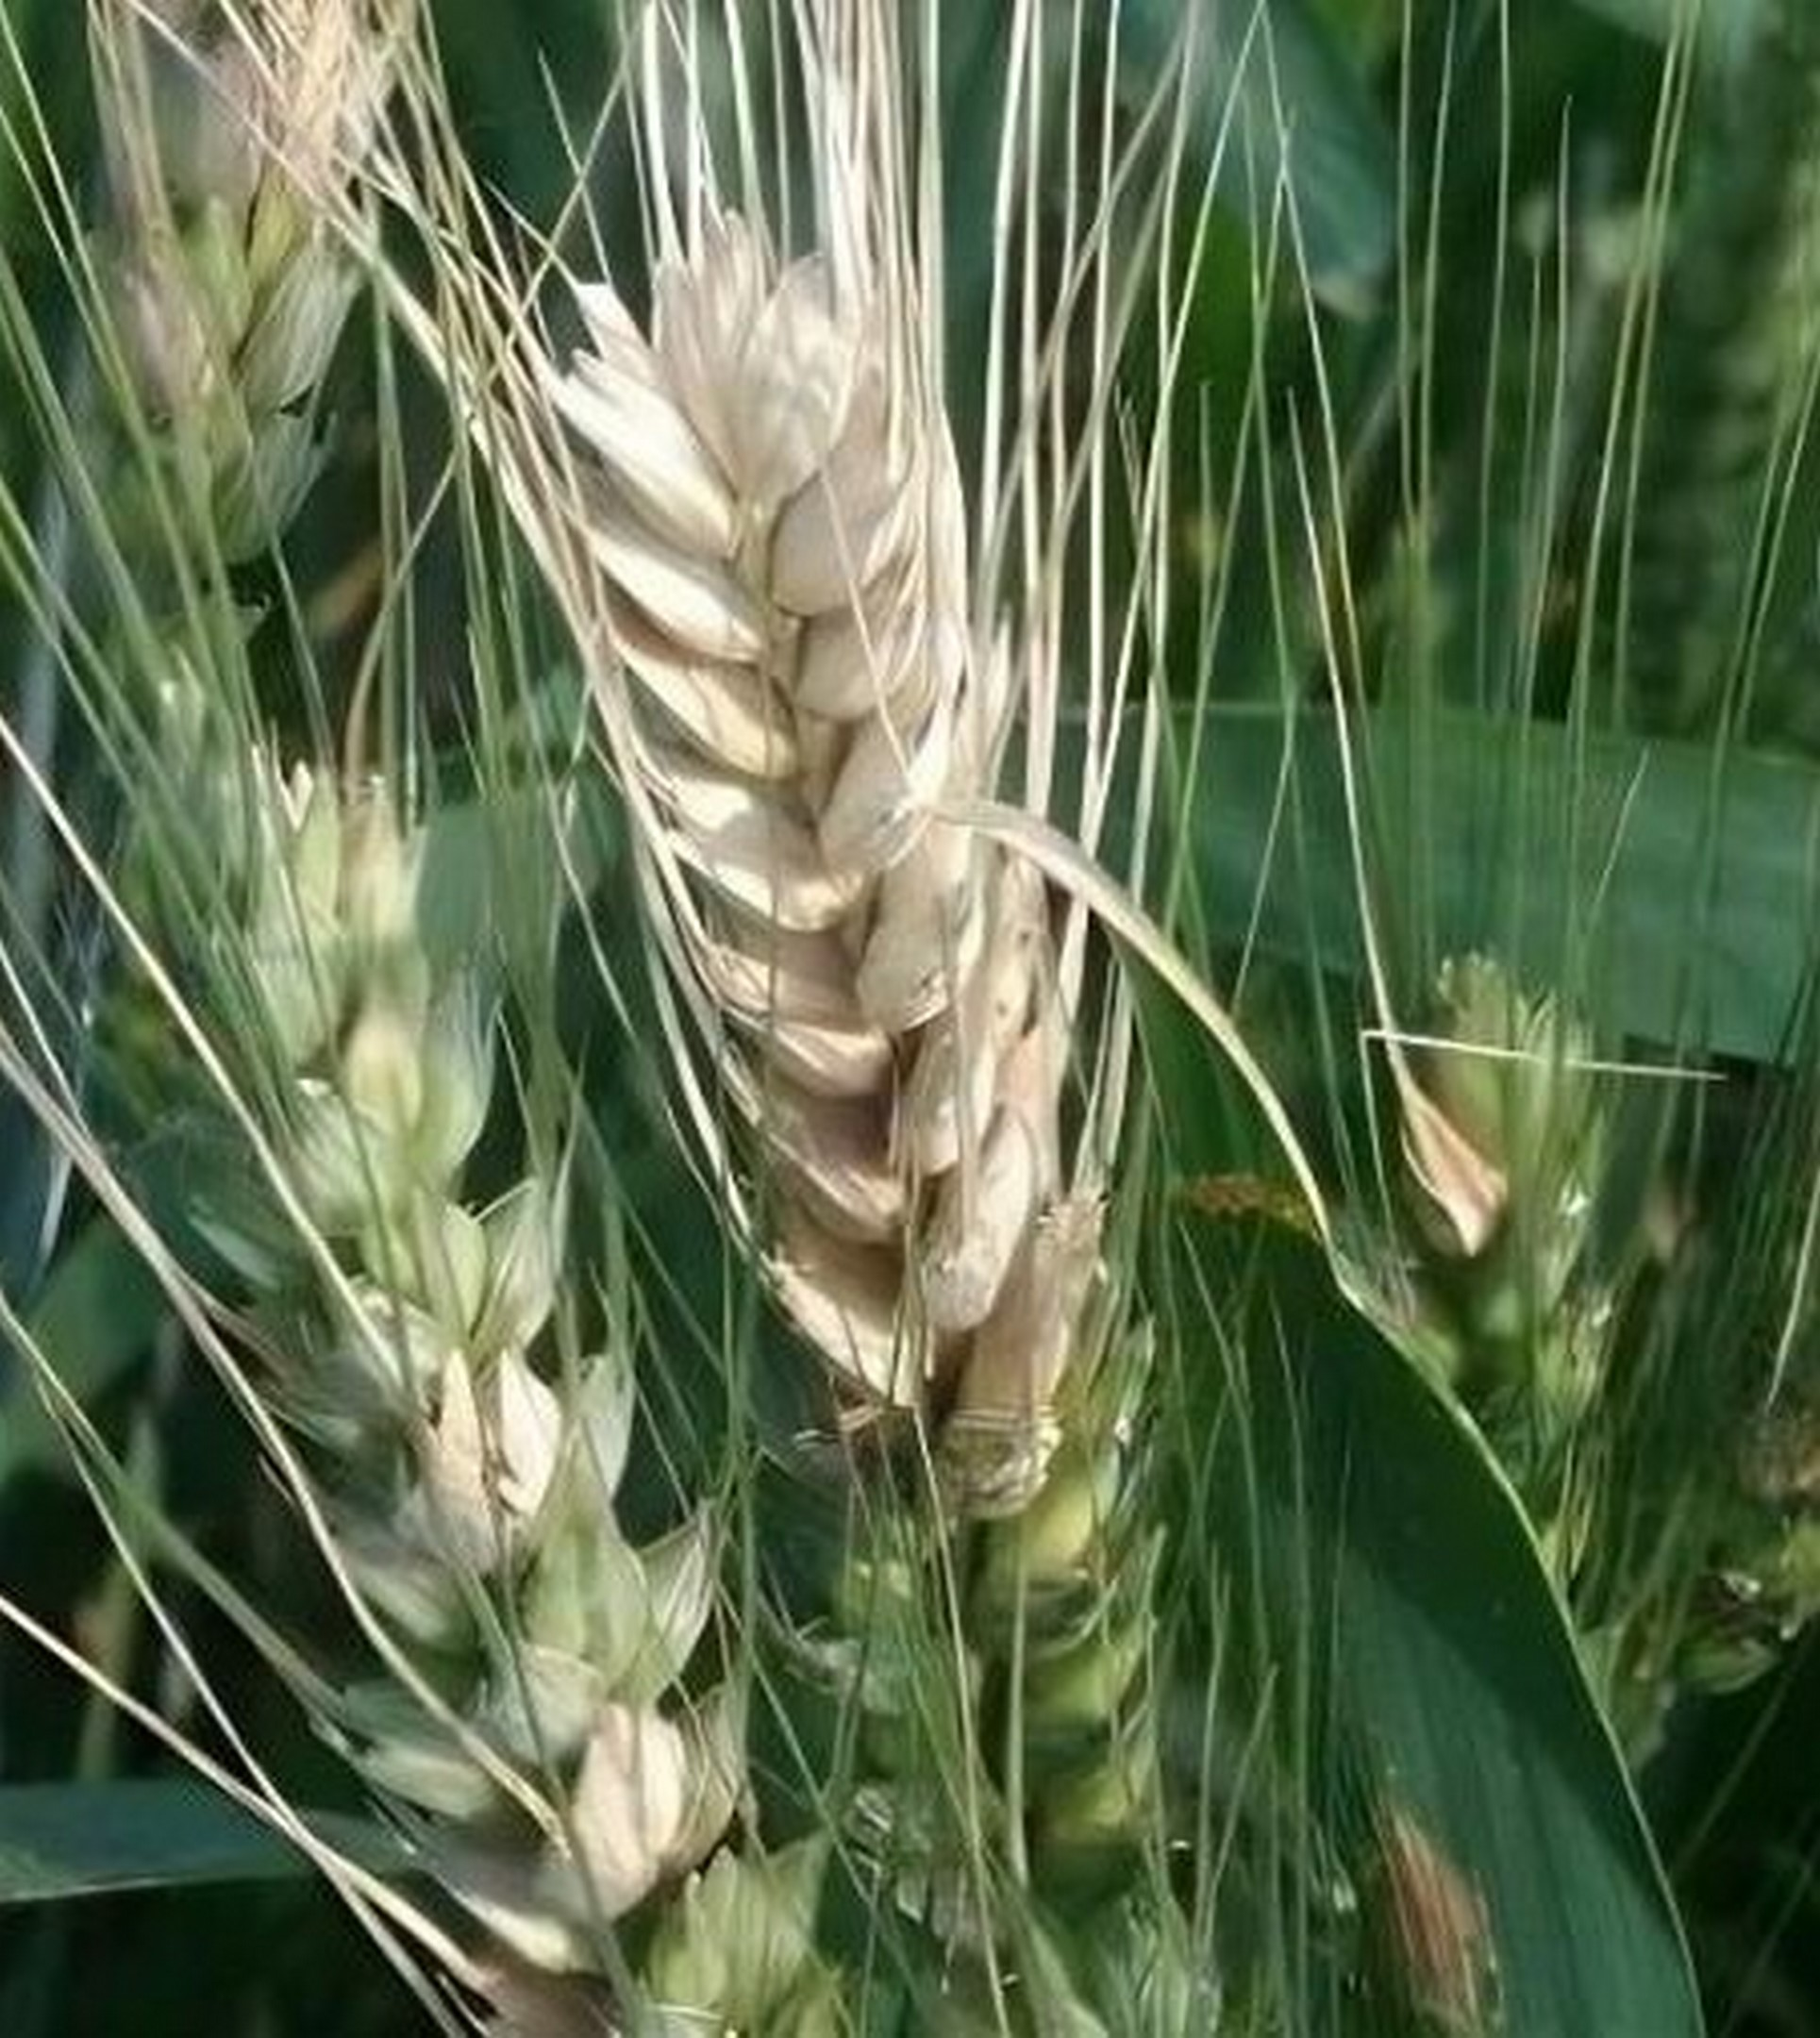Wheat scab: (539, 179, 1242, 1755)
